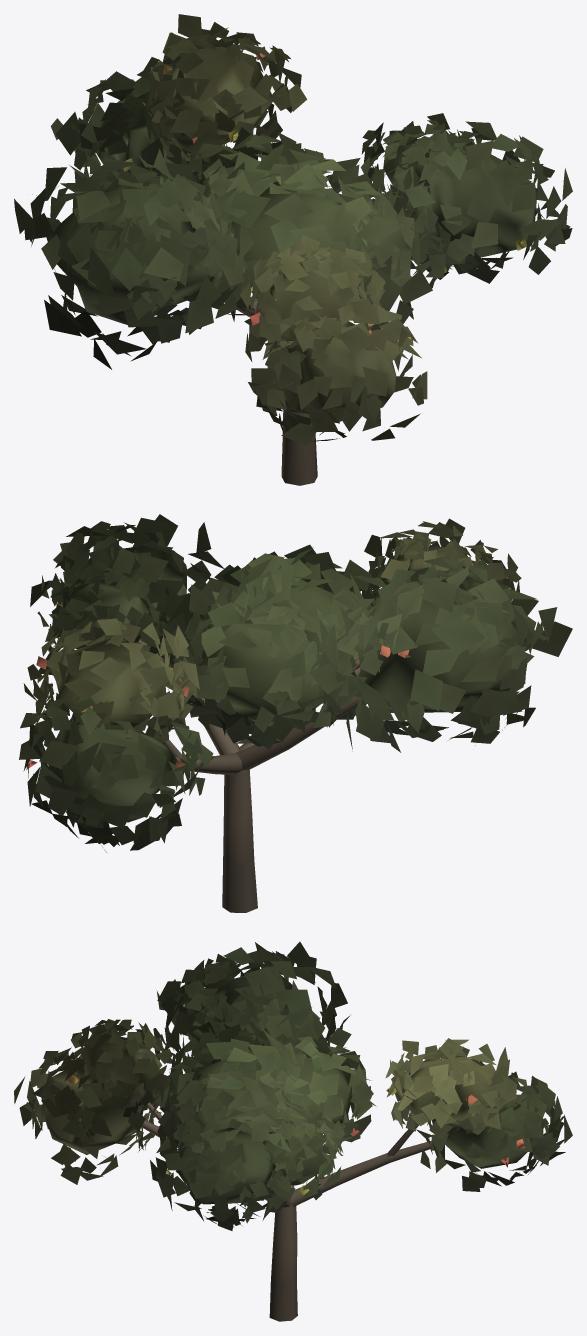
The model's file is manzano_b.glb.
3 renders of one model, top to bottom at view 1: azimuth 30°, elevation 25°; view 2: azimuth 150°, elevation 25°; view 3: azimuth 270°, elevation 25°, orthographic. The views are drawn at different scales.
Parts seen in each view (by area): view 1: ManzanoBHojas, ManzanoBCopa, ManzanoBTronco; view 2: ManzanoBHojas, ManzanoBCopa, ManzanoBTronco; view 3: ManzanoBHojas, ManzanoBCopa, ManzanoBTronco.
Part boxes in pixels (<box>): ManzanoBHojas: <box>14,14,572,445</box>; ManzanoBCopa: <box>49,46,537,413</box>; ManzanoBTronco: <box>199,143,413,485</box>; ManzanoBHojas: <box>19,514,572,852</box>; ManzanoBCopa: <box>26,545,524,822</box>; ManzanoBTronco: <box>135,639,363,912</box>; ManzanoBHojas: <box>14,941,572,1230</box>; ManzanoBCopa: <box>41,975,543,1204</box>; ManzanoBTronco: <box>141,1102,431,1321</box>.
Size of what is drawn, in the model's own units: 5.25 by 3.72 by 6.45.
